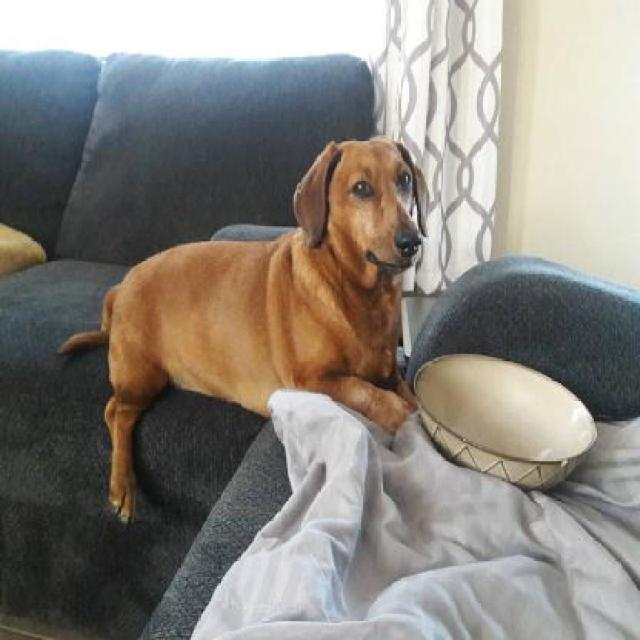Dog: (55, 128, 437, 524)
